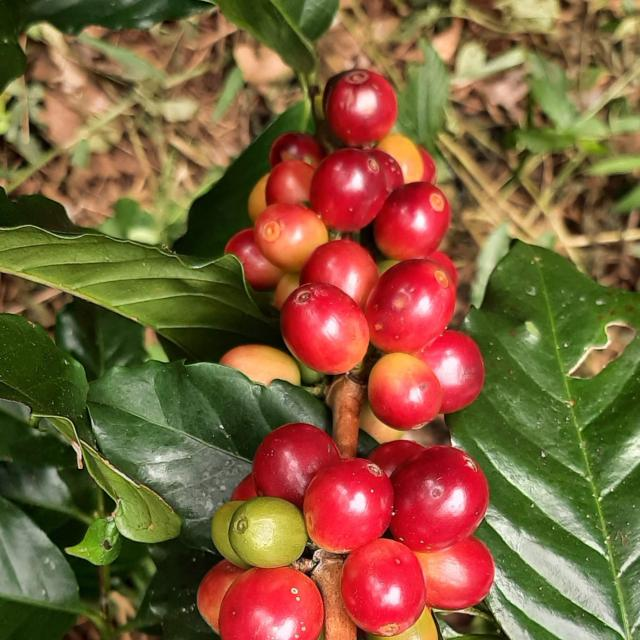green: (229, 498, 308, 569), (211, 501, 251, 570), (368, 608, 439, 640)
red: (390, 446, 490, 553), (365, 259, 457, 353), (342, 540, 426, 637), (252, 424, 342, 510), (219, 567, 324, 640), (310, 148, 388, 232), (416, 330, 486, 414), (324, 69, 398, 146), (300, 239, 380, 309), (368, 440, 425, 477)
yellow: (280, 282, 370, 375), (416, 536, 496, 611), (369, 353, 443, 431), (254, 203, 328, 272), (196, 560, 245, 635), (220, 344, 301, 386), (377, 133, 424, 183), (266, 159, 315, 205)
